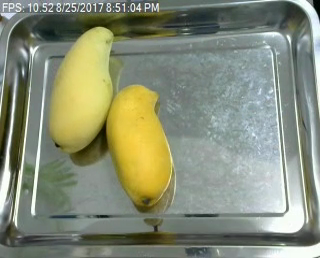Mango: (48, 23, 120, 154), (107, 76, 175, 213)
